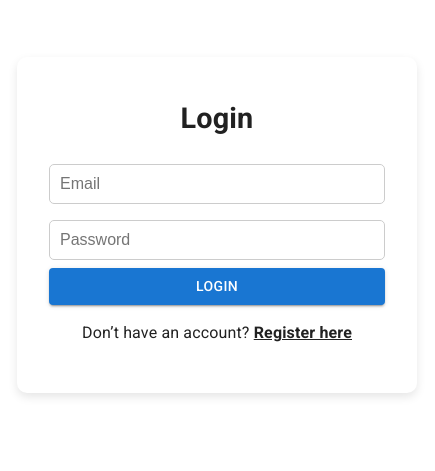
AuthPage Component – Visual/Interaction Tests › toggles to registration form when clicking register link
The image size is (435, 471).
Click the text "Register here" at (303, 332), box x1=254 y1=323 x2=352 y2=342
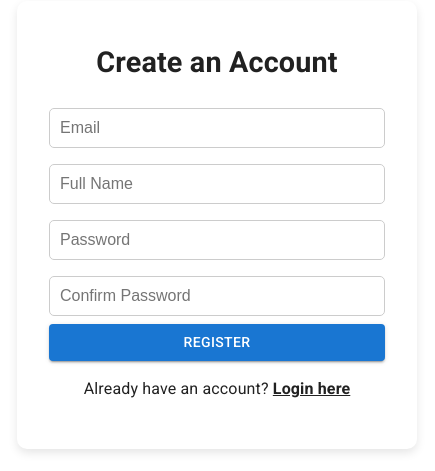
Expected: the heading "Create an Account" is shown, x1=96 y1=45 x2=338 y2=79
Expected: the field with placeholder "Full Name" is shown, x1=49 y1=164 x2=385 y2=204
Expected: the password field with placeholder "Confirm Password" is shown, x1=49 y1=276 x2=385 y2=316
